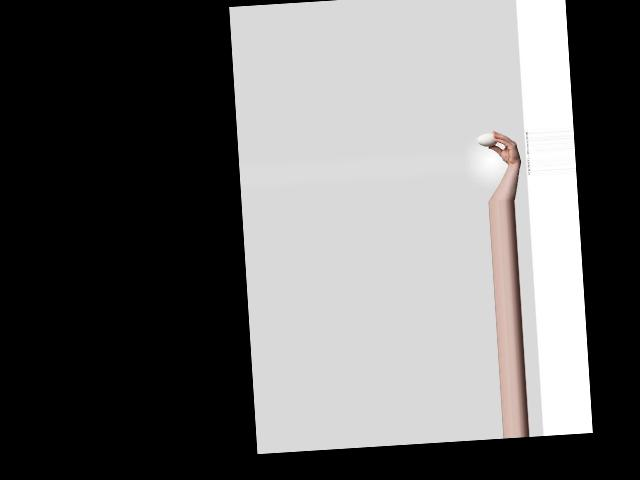egg: (476, 132, 498, 147)
